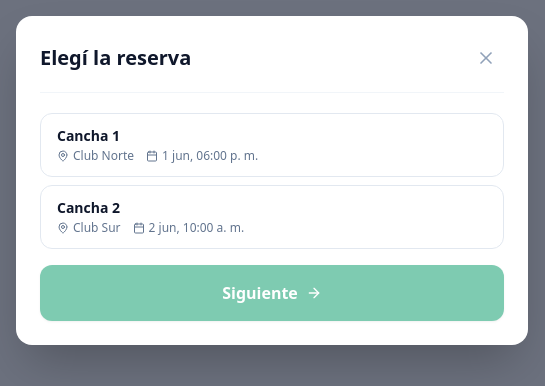
Test: ReportFromReservationModal › navigates to participants step
The image size is (545, 386).
Click the text "Cancha 1" at (89, 135), box [57, 126, 120, 144]
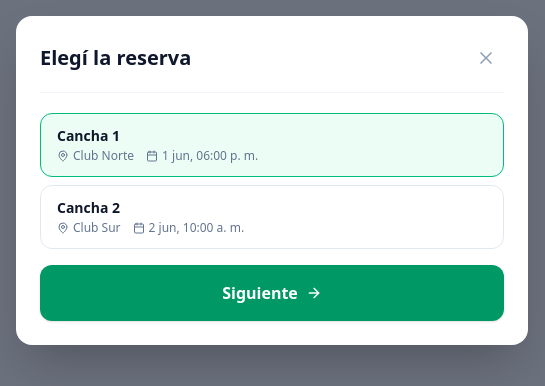
Click the button "Siguiente" at (272, 292), box [40, 264, 504, 320]
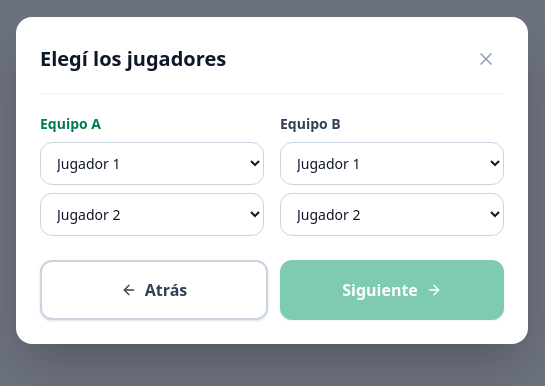
Check: the heading "Elegí los jugadores" is shown, box [40, 44, 226, 72]
Check: the text "Equipo A" is shown, box [40, 114, 101, 132]
Check: the text "Equipo B" is shown, box [280, 114, 341, 132]
